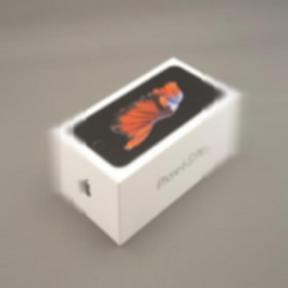box: (53, 56, 247, 244)
